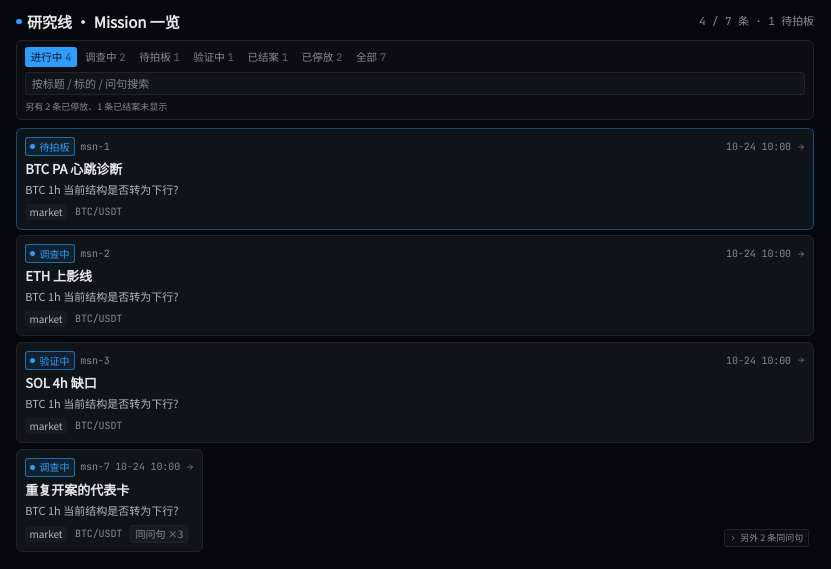
Test: MissionsListView 管理面 › 切到「已停放」只显示 parked,并给出总数
The image size is (831, 569).
Click the button with test id "mission-phase-parked" at (322, 57), box [296, 47, 348, 67]
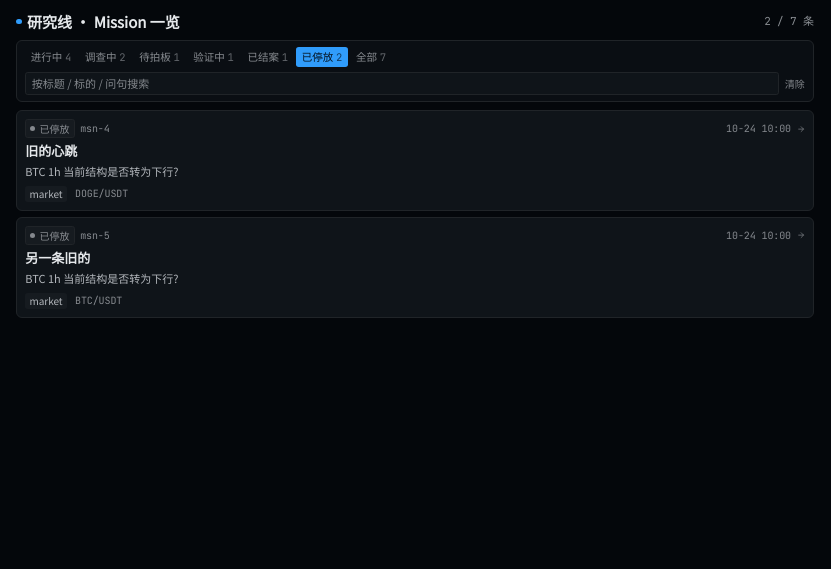
Result: the heading "旧的心跳" is shown at [25, 141, 77, 160]
Result: the heading "另一条旧的" is shown at [25, 248, 90, 267]
Result: the button "BTC PA 心跳诊断" is gone
